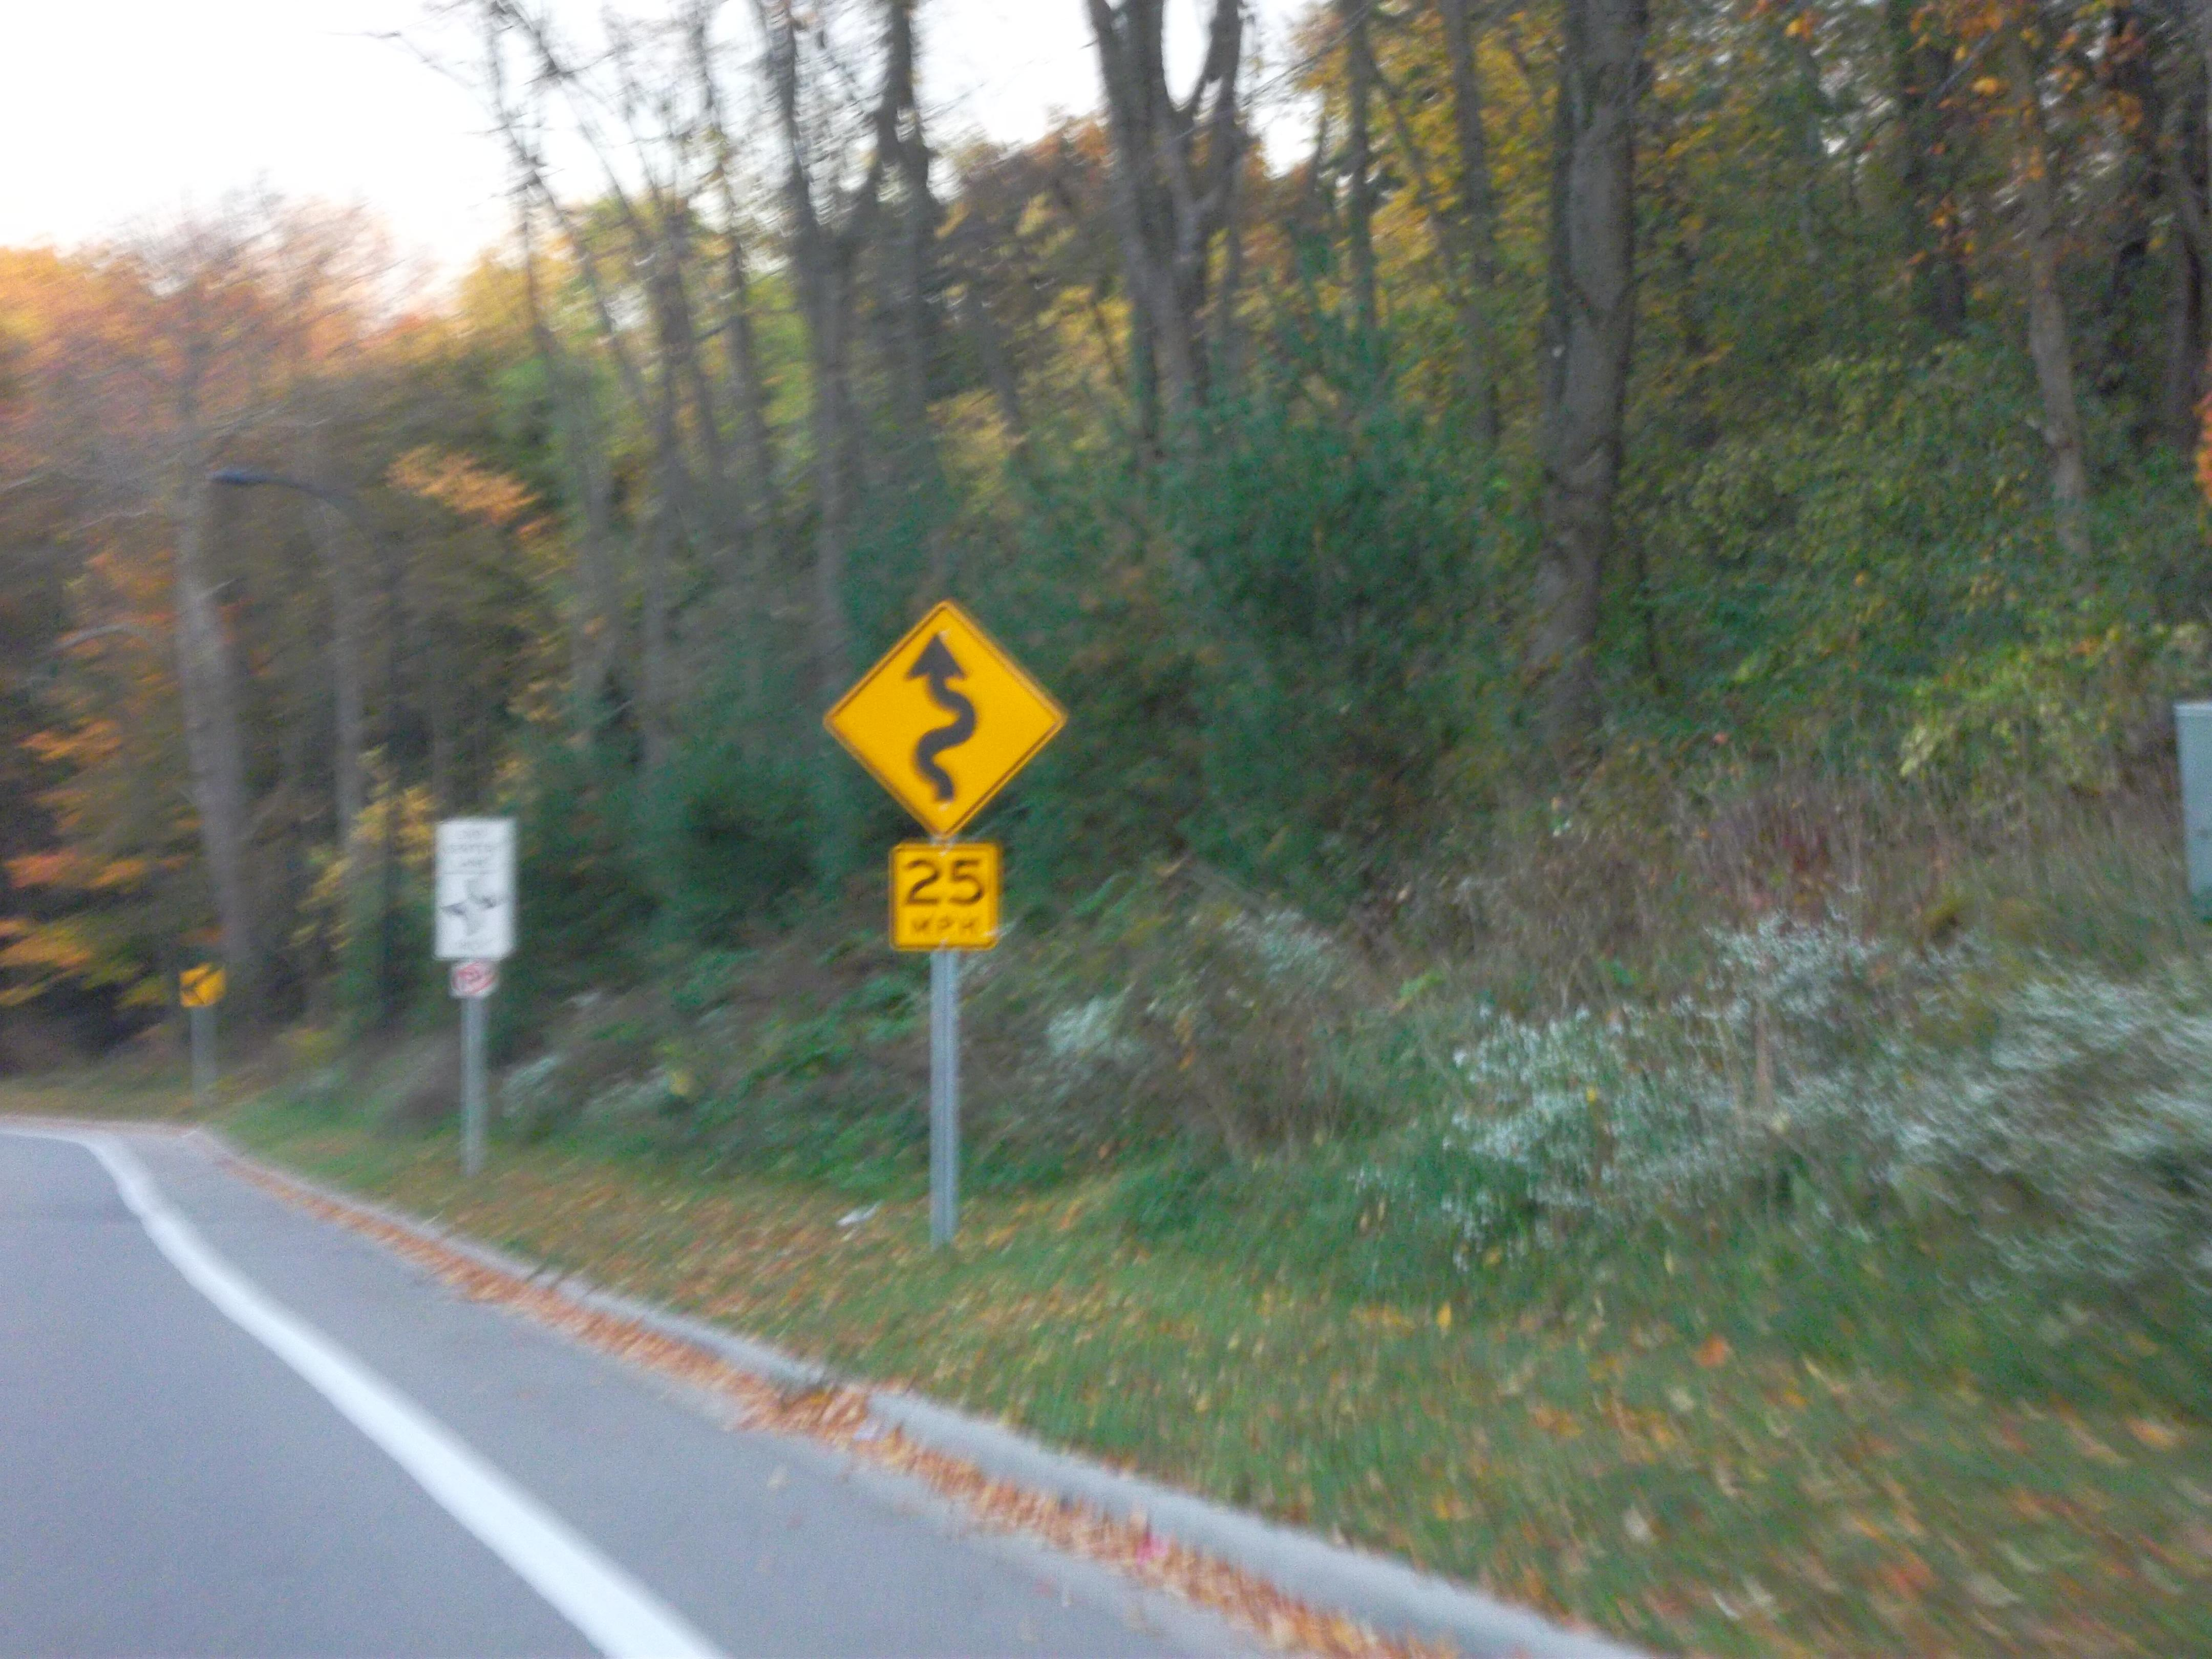regulatory: (427, 819, 521, 962)
warning: (820, 601, 1075, 840)
